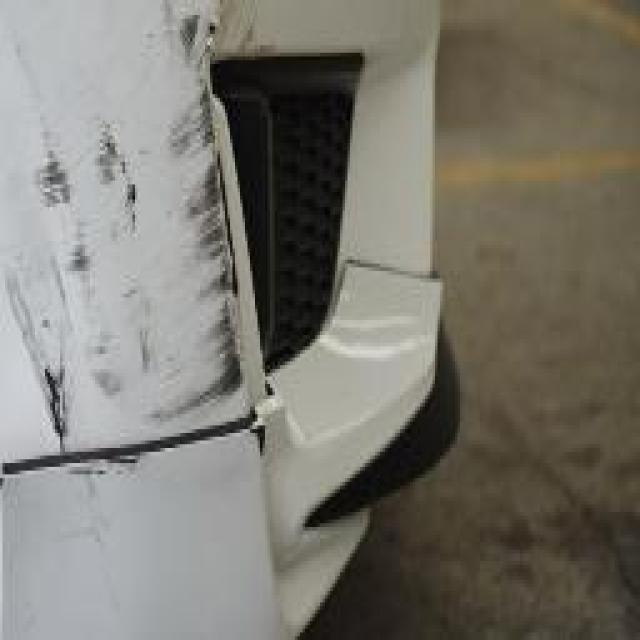Fender: (2, 0, 264, 466)
